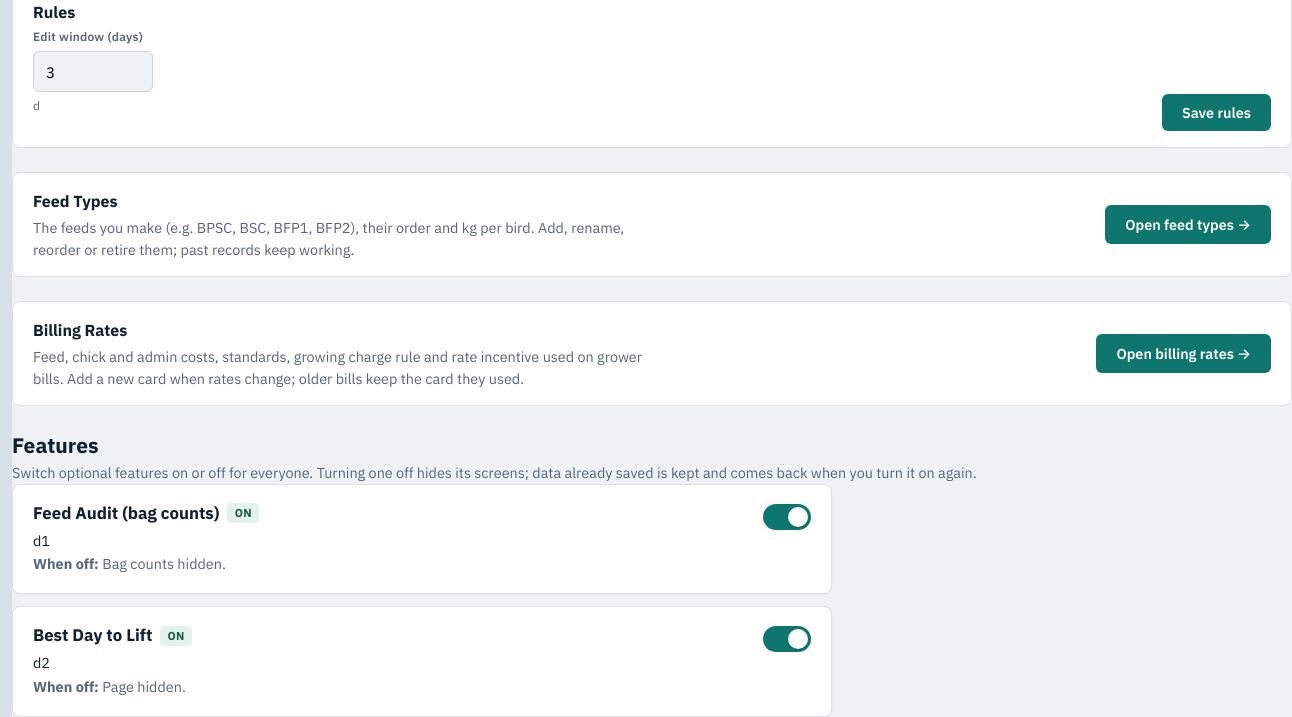
Test case: turning a feature off saves it and shows who changed it
(page scrolled)
Click the switch named "Best Day to Lift" at coordinates (787, 639), box [763,626,811,652]
(page scrolled)
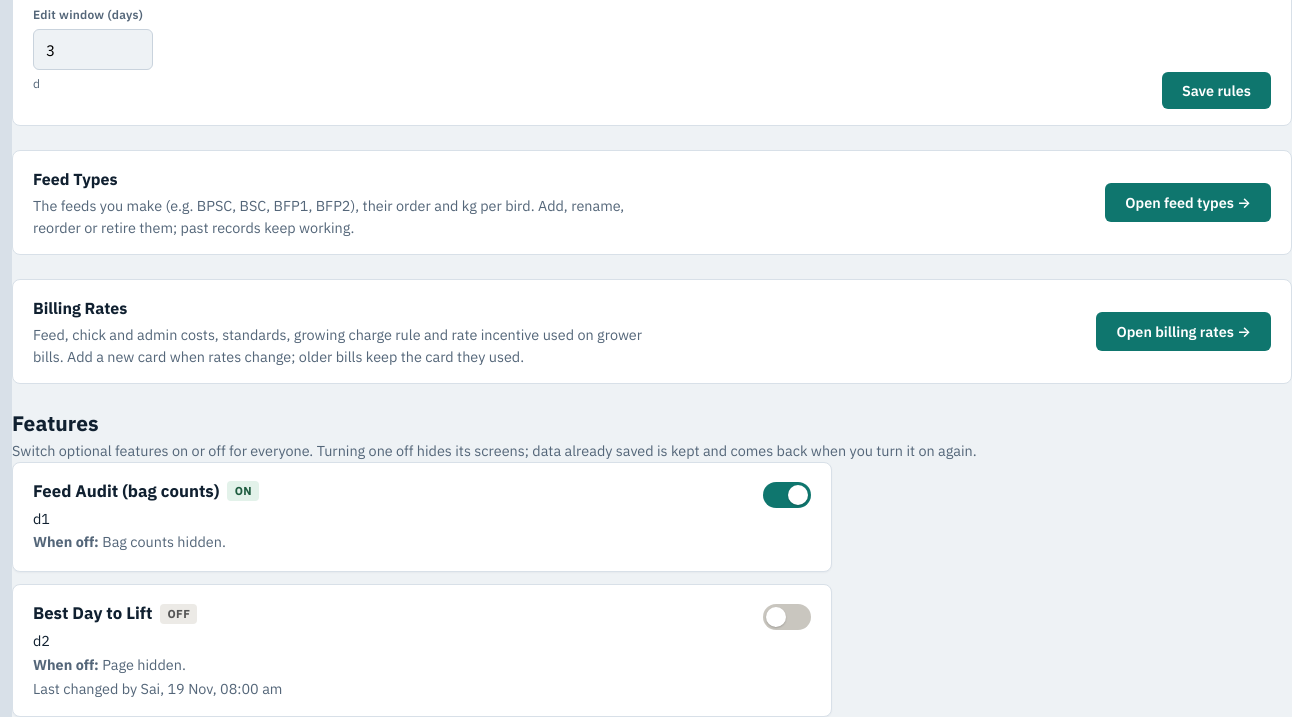
Expected: the switch named "Best Day to Lift" is not checked, [763,604,811,630]
Expected: the text "Last changed by Sai, 19 Nov, 08:00 am" is shown, [33,679,282,698]
